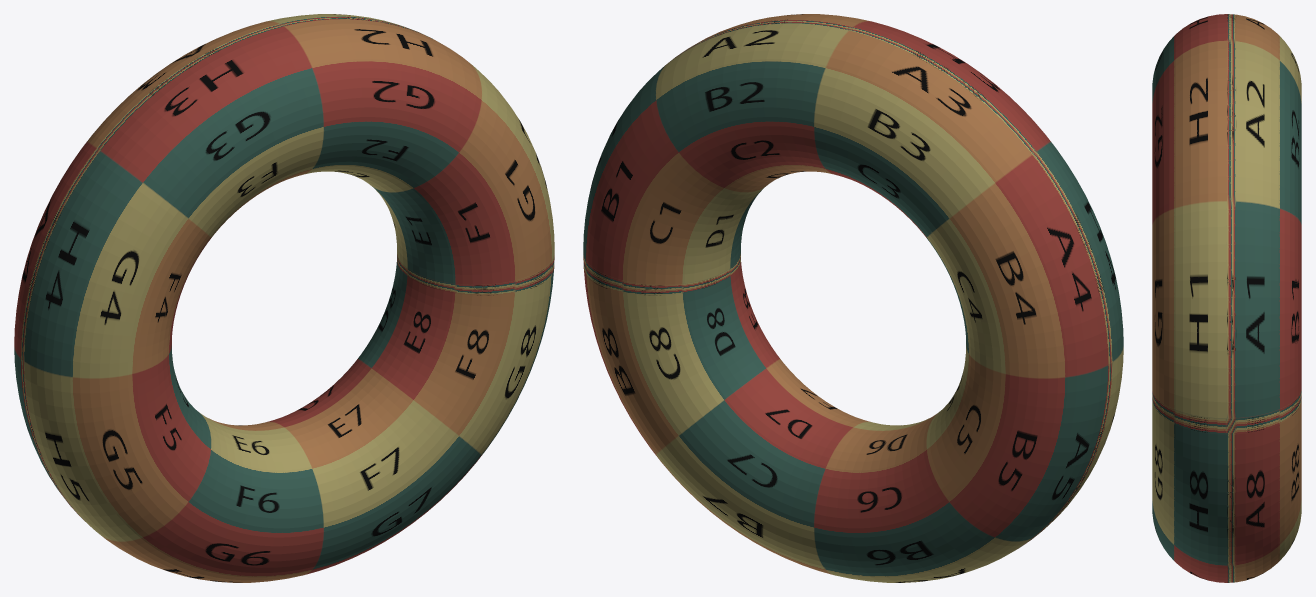
Rendered from texture_torus_R7_r8.glb.
3 views of the same model, side by side, from view 1: azimuth 30°, elevation 25°; view 2: azimuth 150°, elevation 25°; view 3: azimuth 270°, elevation 25° (orthographic). The views are drawn at different scales.
Visible parts, largest first — view 1: world; view 2: world; view 3: world.
Boxes of the visible parts, bbox=[...] form: world: bbox=[14, 14, 554, 582]; world: bbox=[583, 14, 1123, 582]; world: bbox=[1152, 14, 1301, 582].
Size of the model in its own units: 34.67 by 34.67 by 9.09.
1 material, 1 textured.
